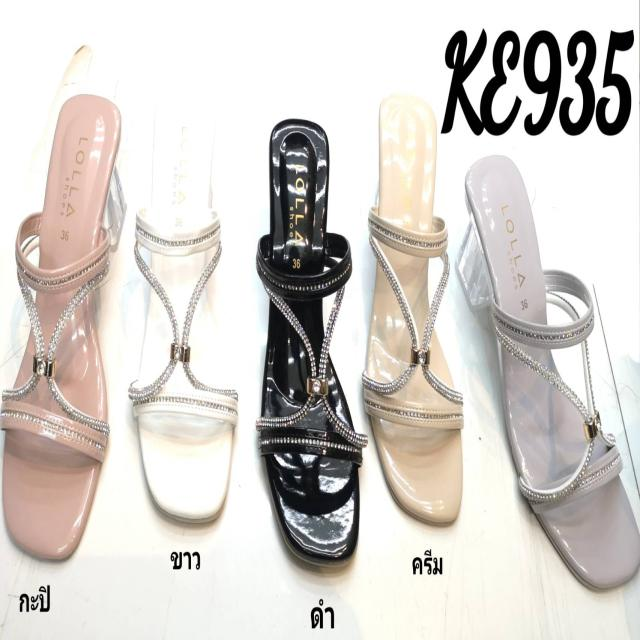black: (259, 114, 362, 570)
cream: (368, 96, 462, 522)
grey: (464, 156, 640, 593)
kapi: (4, 96, 120, 558)
white: (135, 88, 232, 520)
